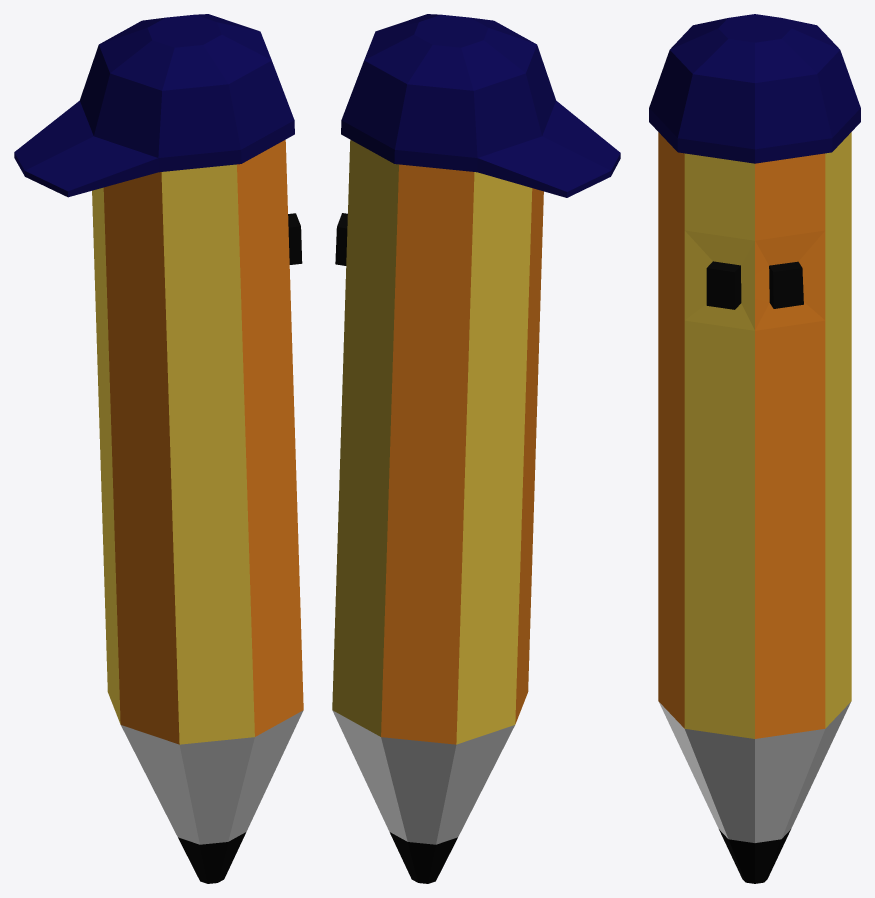
Rendered from pencil.glb.
3 views of the same model, side by side, from view 1: azimuth 30°, elevation 25°; view 2: azimuth 150°, elevation 25°; view 3: azimuth 270°, elevation 25° (orthographic).
Visible parts, largest first — view 1: Cube; view 2: Cube; view 3: Cube.
Part boxes in pixels (bbox=[...]): Cube: bbox=[14, 14, 303, 883]; Cube: bbox=[332, 14, 620, 883]; Cube: bbox=[649, 14, 860, 883].
Bounding box in the file's own units: 3.12 × 9.59 × 2.19.
